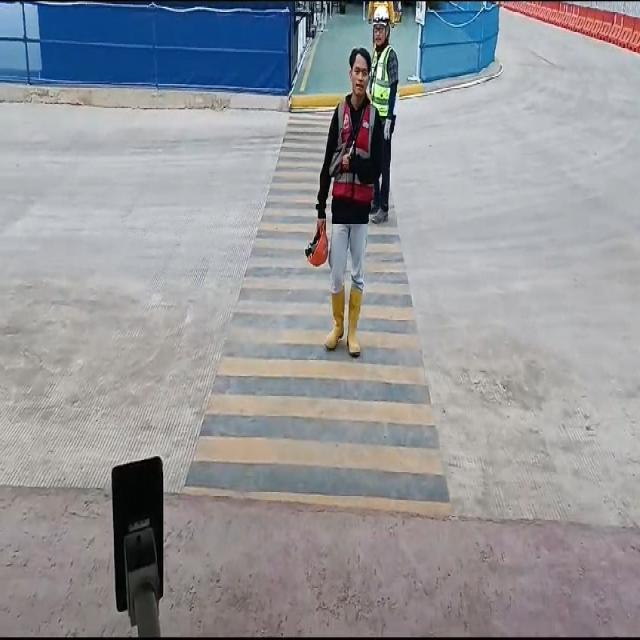gloves: (382, 112, 392, 144)
goggles: (371, 24, 387, 35)
helmet: (302, 218, 329, 271), (370, 1, 389, 25)
safety_vest: (335, 100, 374, 205), (371, 48, 395, 114)
